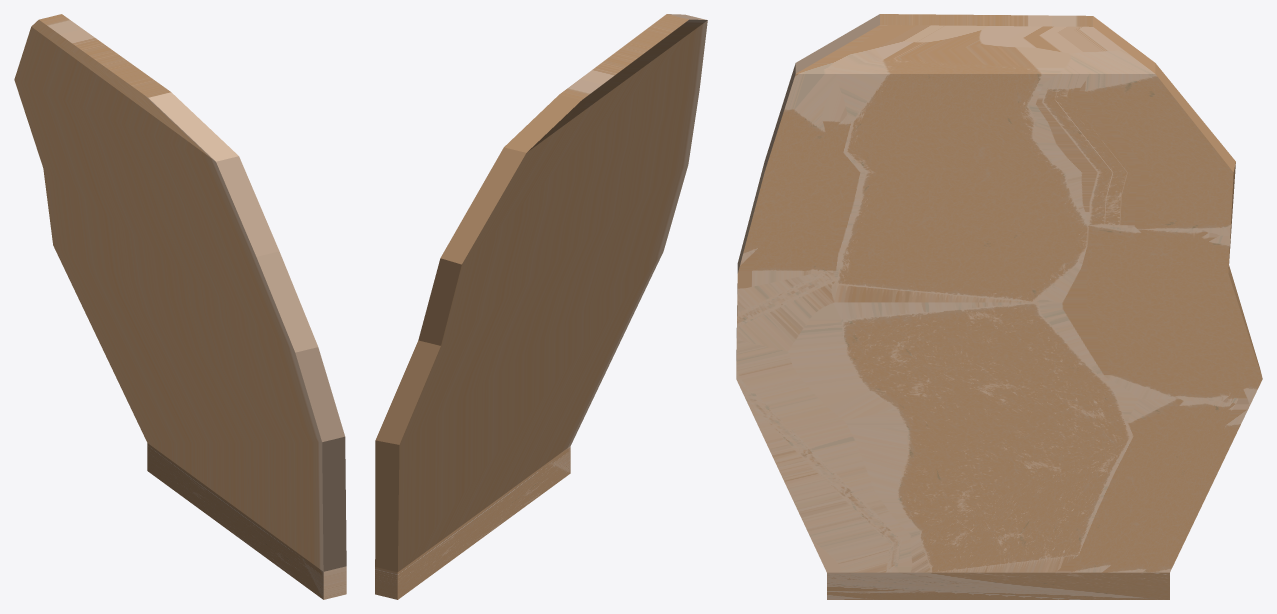
File: MariaCardboard.fbx
3 renders of one model, left to right at view 1: azimuth 30°, elevation 25°; view 2: azimuth 150°, elevation 25°; view 3: azimuth 270°, elevation 25°, orthographic. The views are drawn at different scales.
Parts seen in each view (by area): view 1: ParteRotacional; view 2: ParteRotacional; view 3: ParteRotacional.
Boxes of the visible parts, box(x1,y1,x2,y2) form: ParteRotacional: box(14, 14, 346, 599); ParteRotacional: box(375, 14, 707, 599); ParteRotacional: box(736, 14, 1262, 599).
Size of the model in its own units: 112 by 325 by 307.
